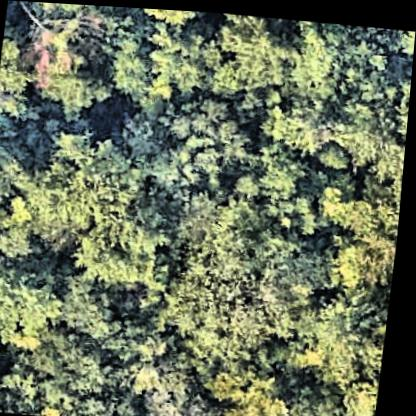tree-top: (165, 203, 324, 357), (12, 117, 147, 255), (76, 189, 173, 293), (34, 8, 122, 115), (289, 291, 389, 383), (326, 173, 405, 286), (169, 94, 262, 188), (116, 14, 200, 107), (0, 255, 74, 357), (25, 331, 117, 410), (210, 11, 296, 90), (289, 21, 378, 94), (140, 19, 219, 96), (334, 95, 405, 170), (226, 367, 324, 416), (261, 87, 337, 150), (244, 143, 317, 208), (147, 365, 228, 416), (0, 23, 42, 120), (61, 277, 127, 338), (111, 29, 160, 99), (287, 371, 359, 416), (54, 388, 145, 416), (345, 365, 387, 416), (133, 6, 207, 30), (23, 1, 99, 22), (0, 346, 16, 412), (394, 24, 416, 64)
